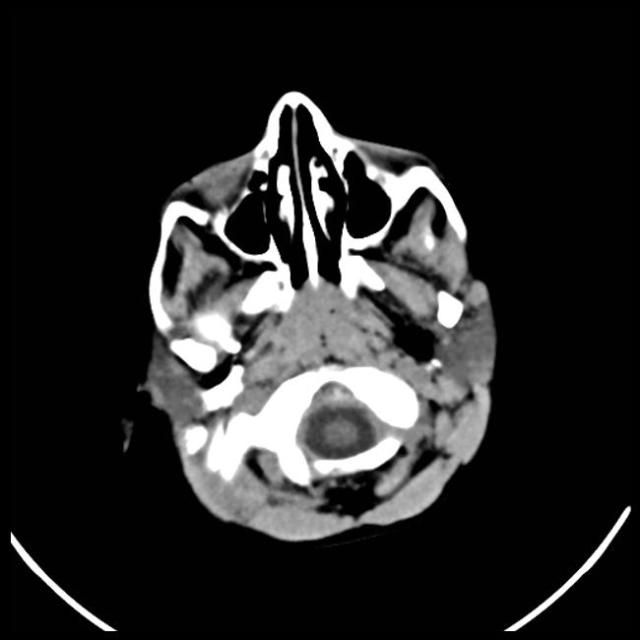lesion: (130, 86, 503, 546)
